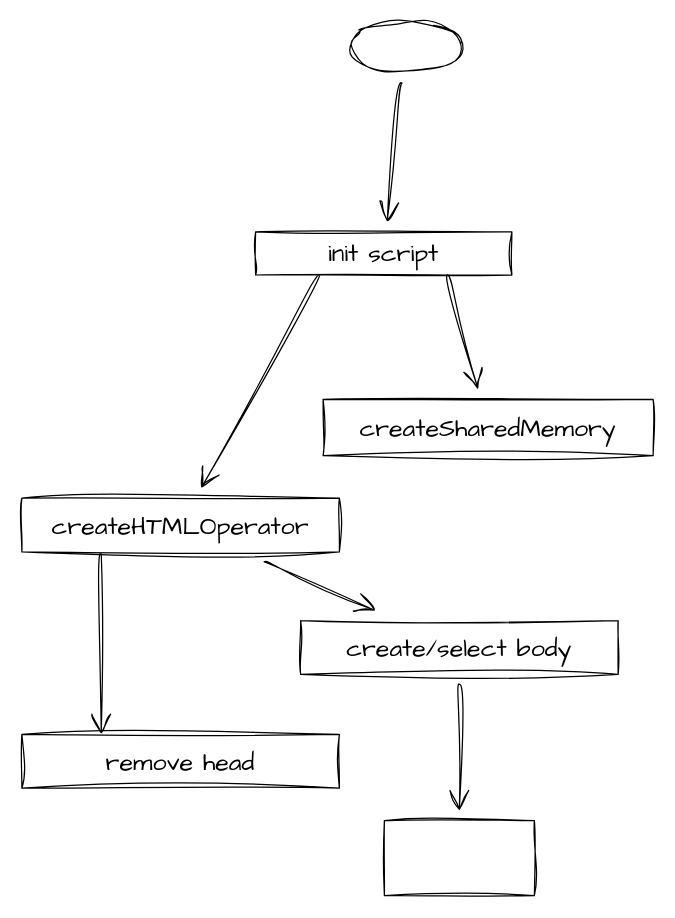
Image size: 675x918. Some labels were removed from this diagram. The shapes that lost their labels are listed below. From the top down, each one's centre as x and y in pixels, then its label:
At point (405, 47): "begin".
At point (458, 857): "clear content".
